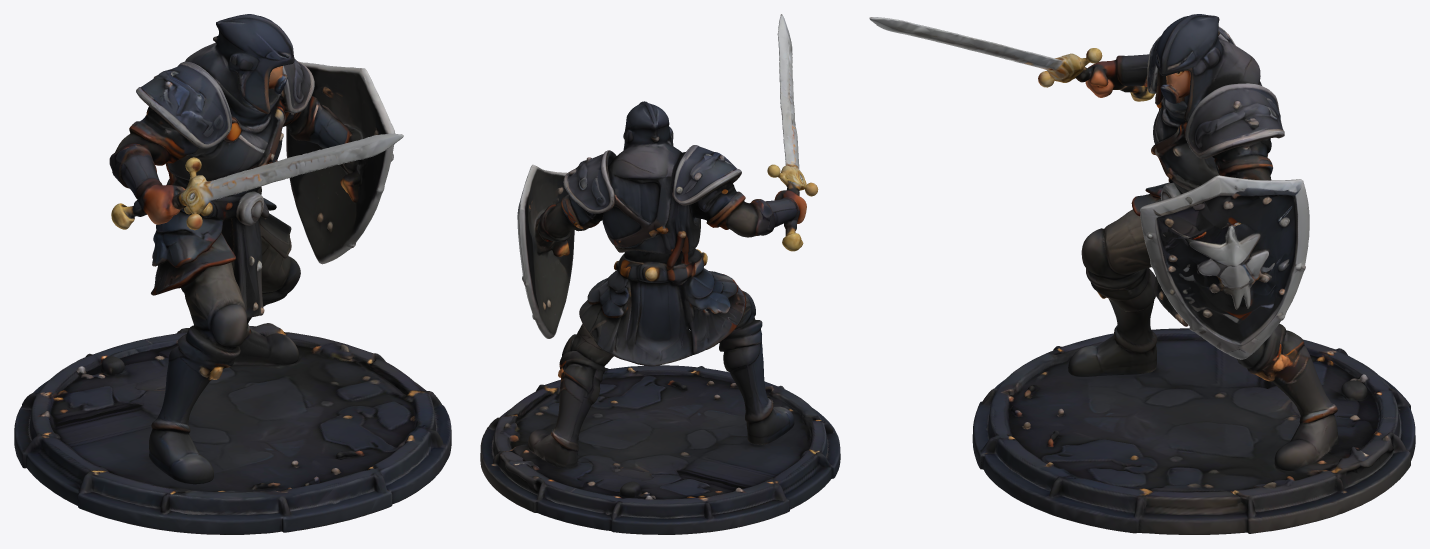
The model's file is plaza-statue-warrior.glb.
3 renders of one model, left to right at view 1: azimuth 30°, elevation 25°; view 2: azimuth 150°, elevation 25°; view 3: azimuth 270°, elevation 25°, orthographic. The views are drawn at different scales.
Parts seen in each view (by area): view 1: tripo_node_1cd59003-9dff-422c-9ddc-a36a990e3cfc; view 2: tripo_node_1cd59003-9dff-422c-9ddc-a36a990e3cfc; view 3: tripo_node_1cd59003-9dff-422c-9ddc-a36a990e3cfc.
Part boxes in pixels (x1,y1,x2,y2): tripo_node_1cd59003-9dff-422c-9ddc-a36a990e3cfc: (14, 14, 451, 534); tripo_node_1cd59003-9dff-422c-9ddc-a36a990e3cfc: (480, 14, 840, 534); tripo_node_1cd59003-9dff-422c-9ddc-a36a990e3cfc: (869, 14, 1415, 534).
Bounding box in the file's own units: 4.57 × 5 × 5.68.
Materials: 1 (1 with a texture image).
